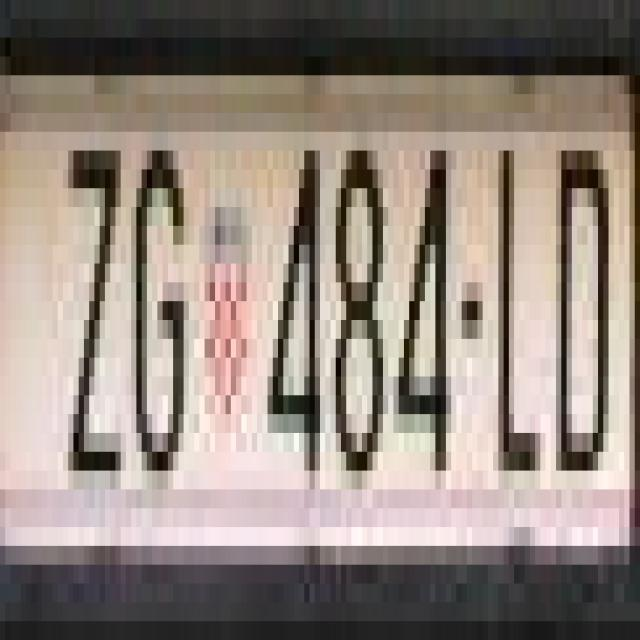4: (257, 132, 320, 433), (399, 132, 456, 452)
8: (325, 132, 383, 452)
D: (561, 132, 614, 452)
G: (126, 132, 189, 489)
L: (488, 94, 540, 452)
Z: (58, 132, 126, 489)
